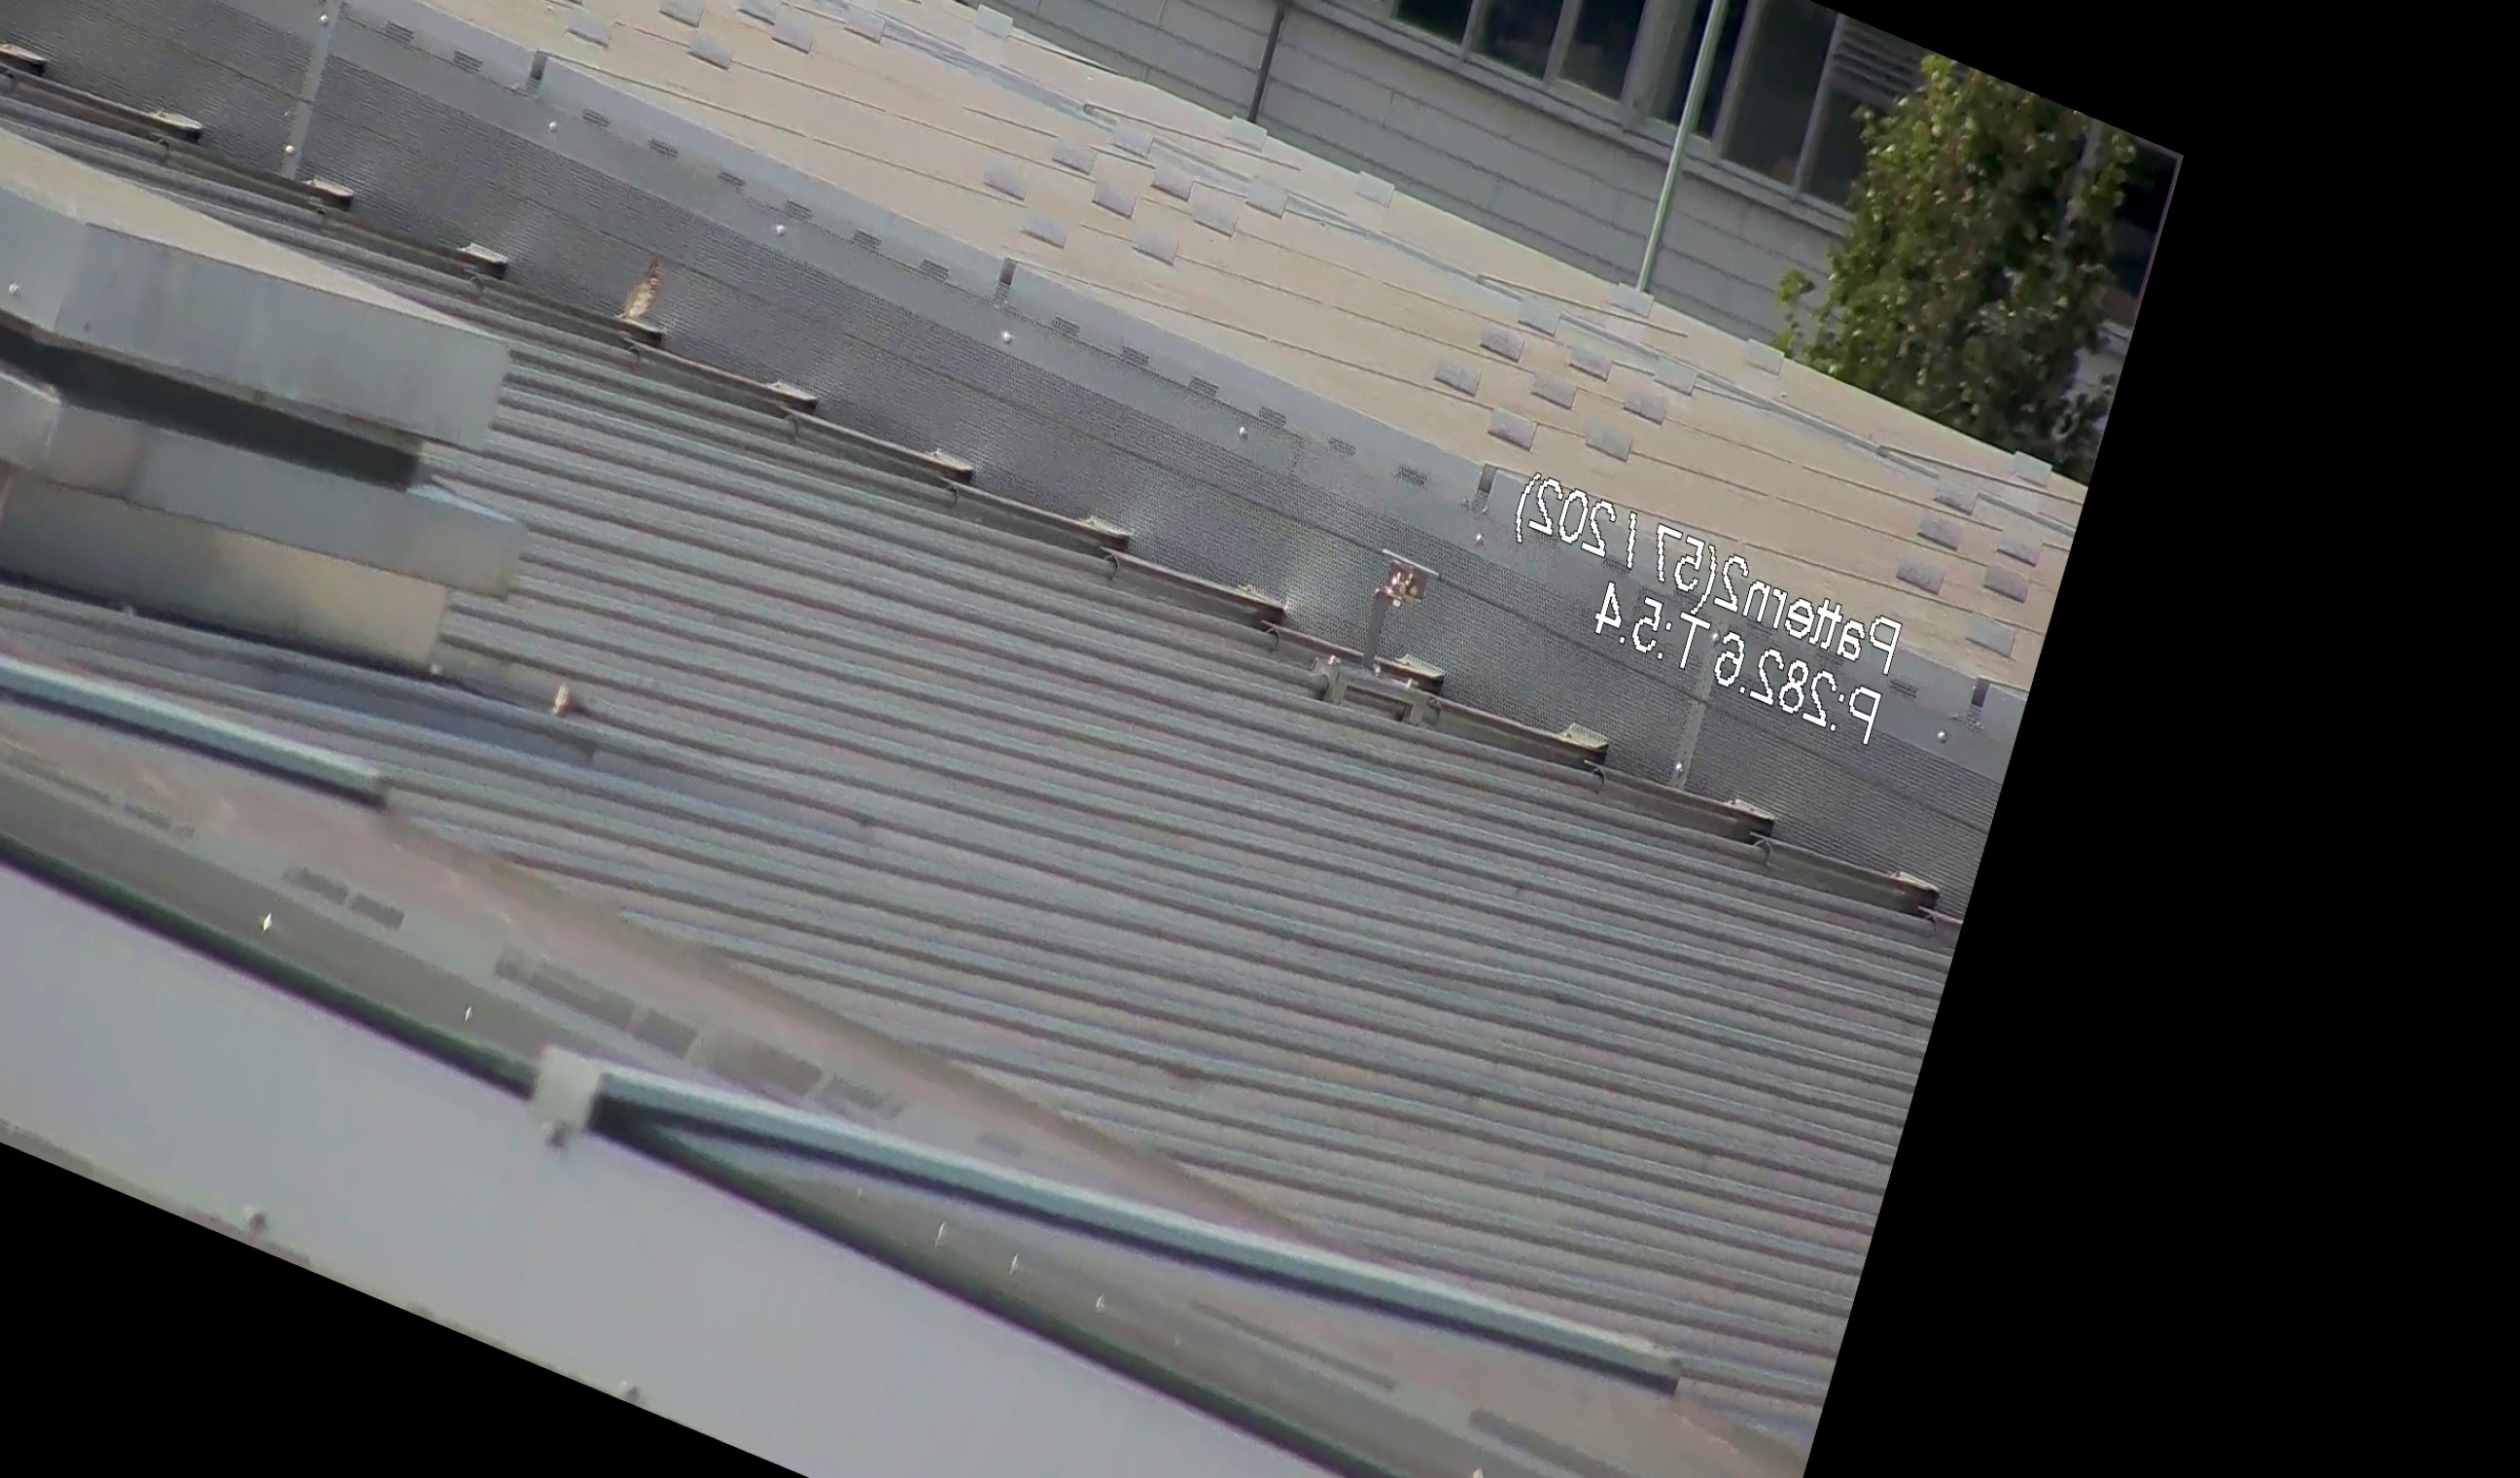Other: (603, 229, 688, 352)
